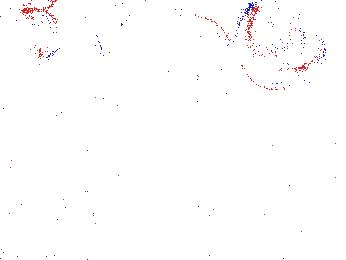moon jellyfish: (135, 14, 244, 90), (234, 2, 324, 90), (98, 1, 185, 59), (1, 7, 61, 59)
